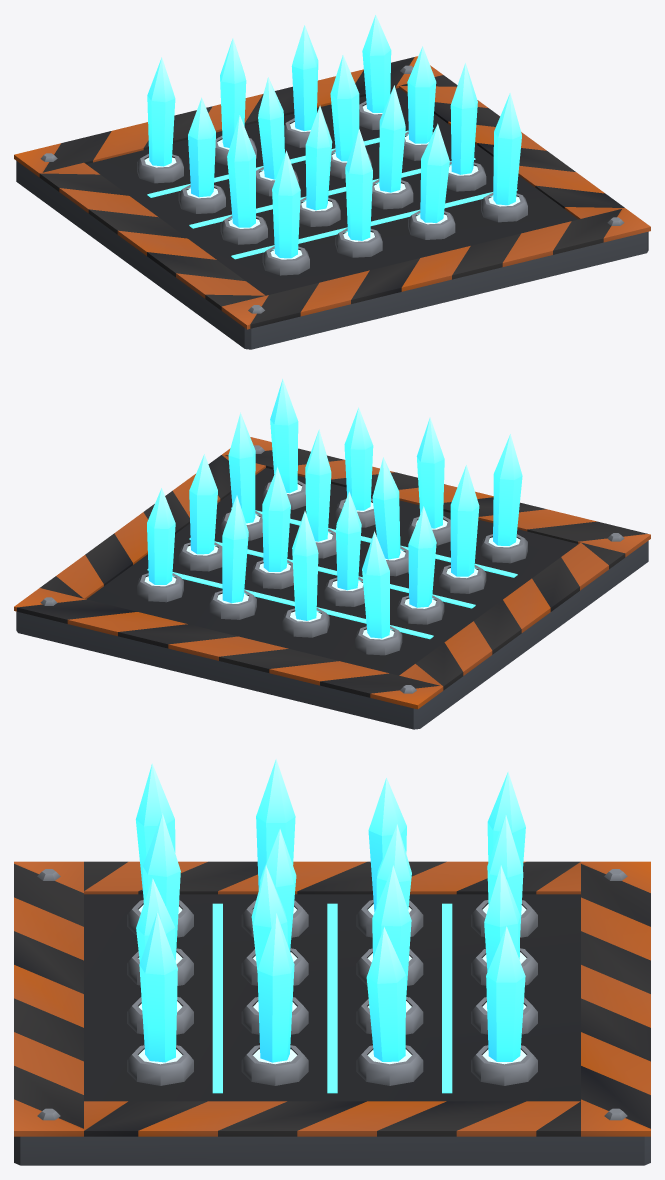
Rendered from spikes_space.glb.
3 views of the same model, one above another, from view 1: azimuth 30°, elevation 25°; view 2: azimuth 150°, elevation 25°; view 3: azimuth 270°, elevation 25° (orthographic). The views are drawn at different scales.
Parts seen in each view (by area): view 1: spikes_space; view 2: spikes_space; view 3: spikes_space.
Part boxes in pixels (box(x1,y1,x2,y2)): spikes_space: box(14, 15, 650, 349); spikes_space: box(14, 378, 650, 729); spikes_space: box(14, 759, 650, 1165).
Size of the model in its own units: 2 by 0.6822 by 2.
